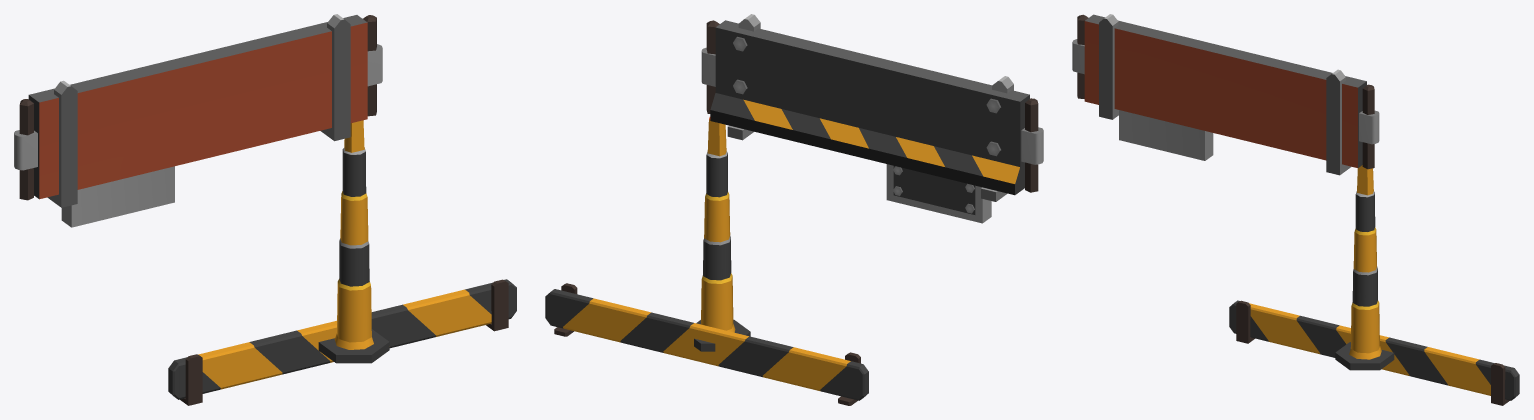
The model's file is firerate_t4_a3.fbx.
3 views of the same model, side by side, from view 1: azimuth 30°, elevation 25°; view 2: azimuth 150°, elevation 25°; view 3: azimuth 330°, elevation 25° (orthographic). The views are drawn at different scales.
Visible parts, largest first — view 1: broad_t4_a3, firerate_t4_a3_m_lock, firerate_t4_a3_m; view 2: broad_t4_a3, firerate_t4_a3_m_lock, firerate_t4_a3_m; view 3: broad_t4_a3, firerate_t4_a3_m_lock, firerate_t4_a3_m.
Boxes of the visible parts, x1=… form: broad_t4_a3: x1=14, y1=14, x2=382, y2=227; firerate_t4_a3_m_lock: x1=168, y1=279, x2=516, y2=405; firerate_t4_a3_m: x1=318, y1=120, x2=389, y2=363; broad_t4_a3: x1=701, y1=14, x2=1043, y2=223; firerate_t4_a3_m_lock: x1=545, y1=283, x2=868, y2=405; firerate_t4_a3_m: x1=694, y1=117, x2=750, y2=351; broad_t4_a3: x1=1072, y1=14, x2=1379, y2=175; firerate_t4_a3_m_lock: x1=1229, y1=300, x2=1519, y2=405; firerate_t4_a3_m: x1=1335, y1=165, x2=1394, y2=370.
Size of the model in its own units: 817 by 555 by 97.5.
